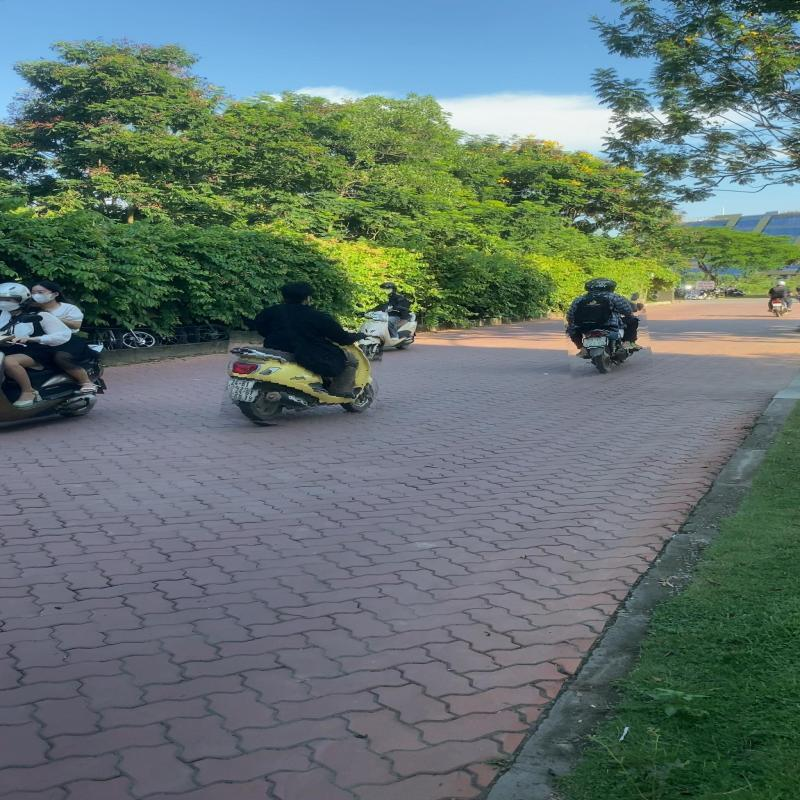helmet: (592, 280, 618, 294)
licenseplate: (228, 386, 258, 402), (582, 336, 607, 348)
motorcyclist: (224, 276, 386, 432), (561, 274, 650, 376)
nohelmet: (277, 280, 320, 306)
